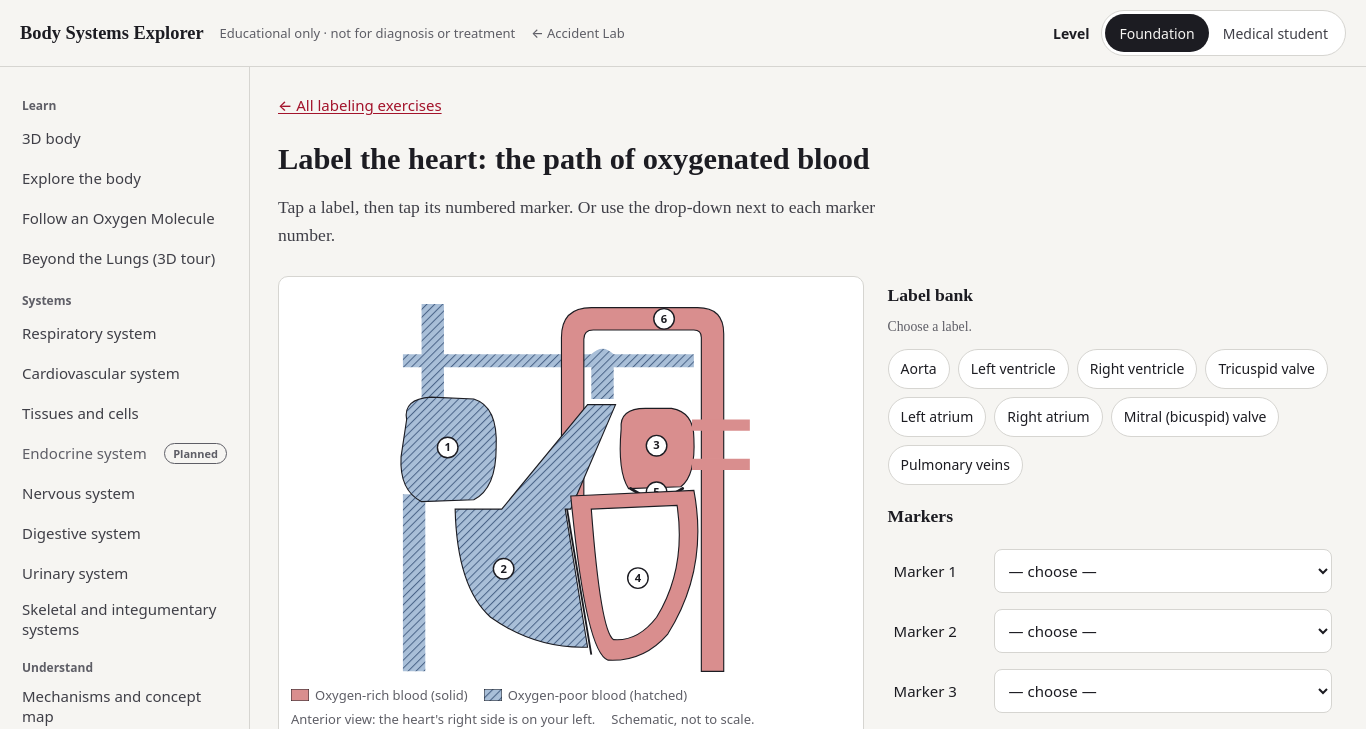
Scenario: labeling › can be completed entirely with the keyboard-accessible selects
Select "Right atrium" in the dropdown labelled "Marker 1" at (1163, 571), box [994, 549, 1332, 593]
Select "Right ventricle" in the dropdown labelled "Marker 2" at (1163, 631), box [994, 609, 1332, 653]
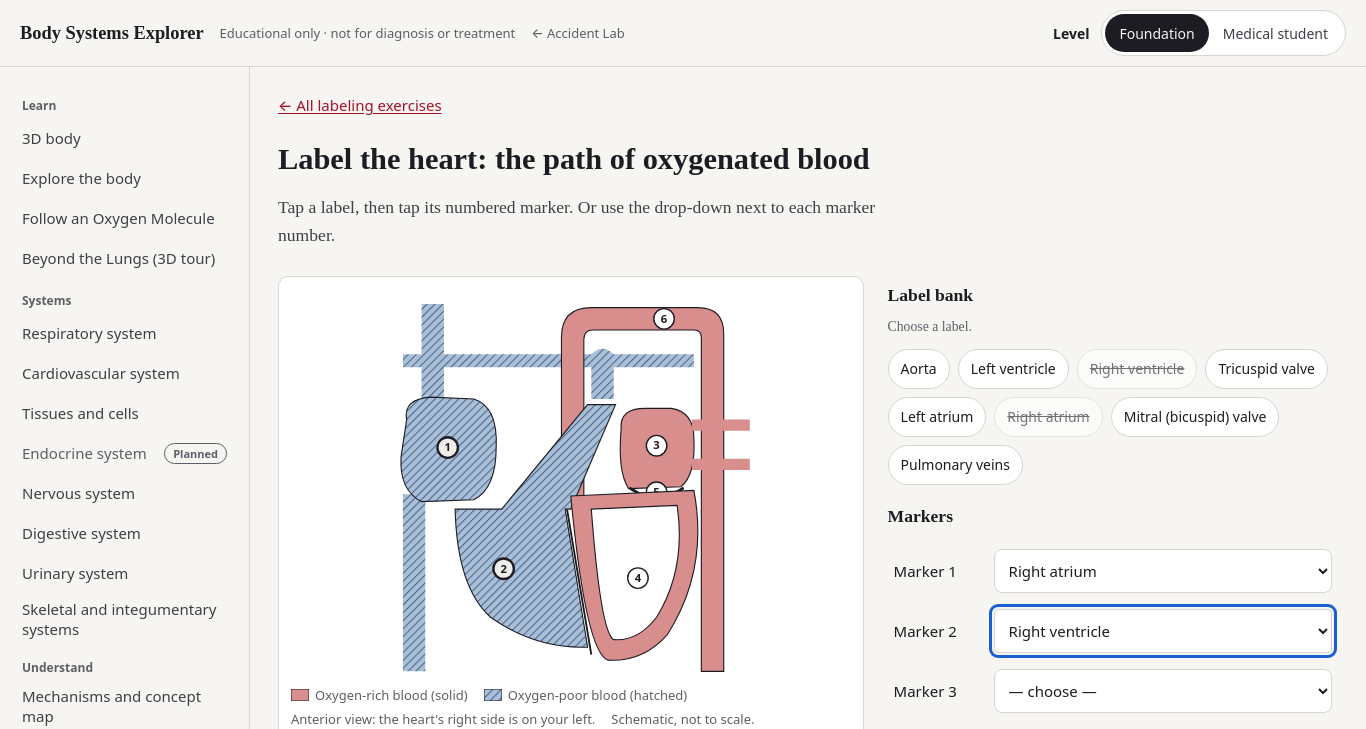
Select "Left atrium" in the dropdown labelled "Marker 3" at (1163, 691), box [994, 669, 1332, 713]
(page scrolled)
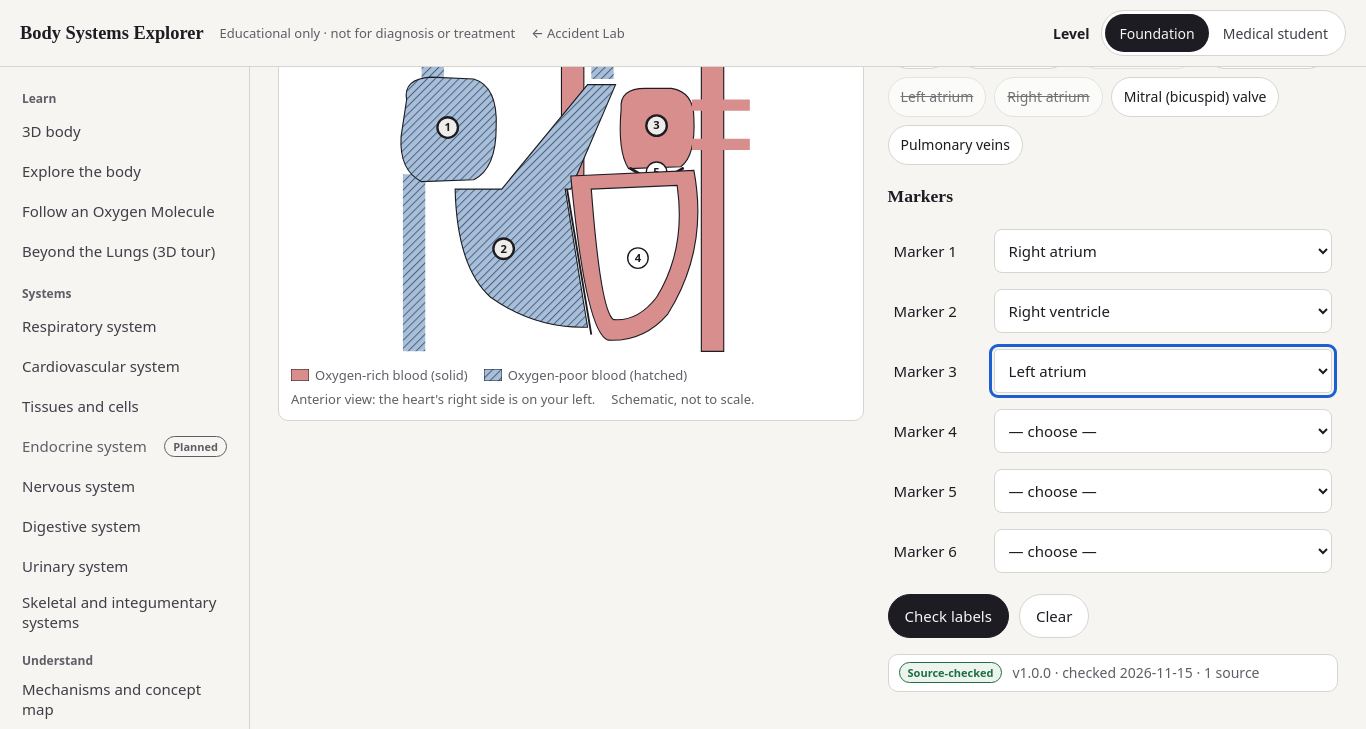
Select "Left ventricle" in the dropdown labelled "Marker 4" at (1163, 431), box [994, 409, 1332, 453]
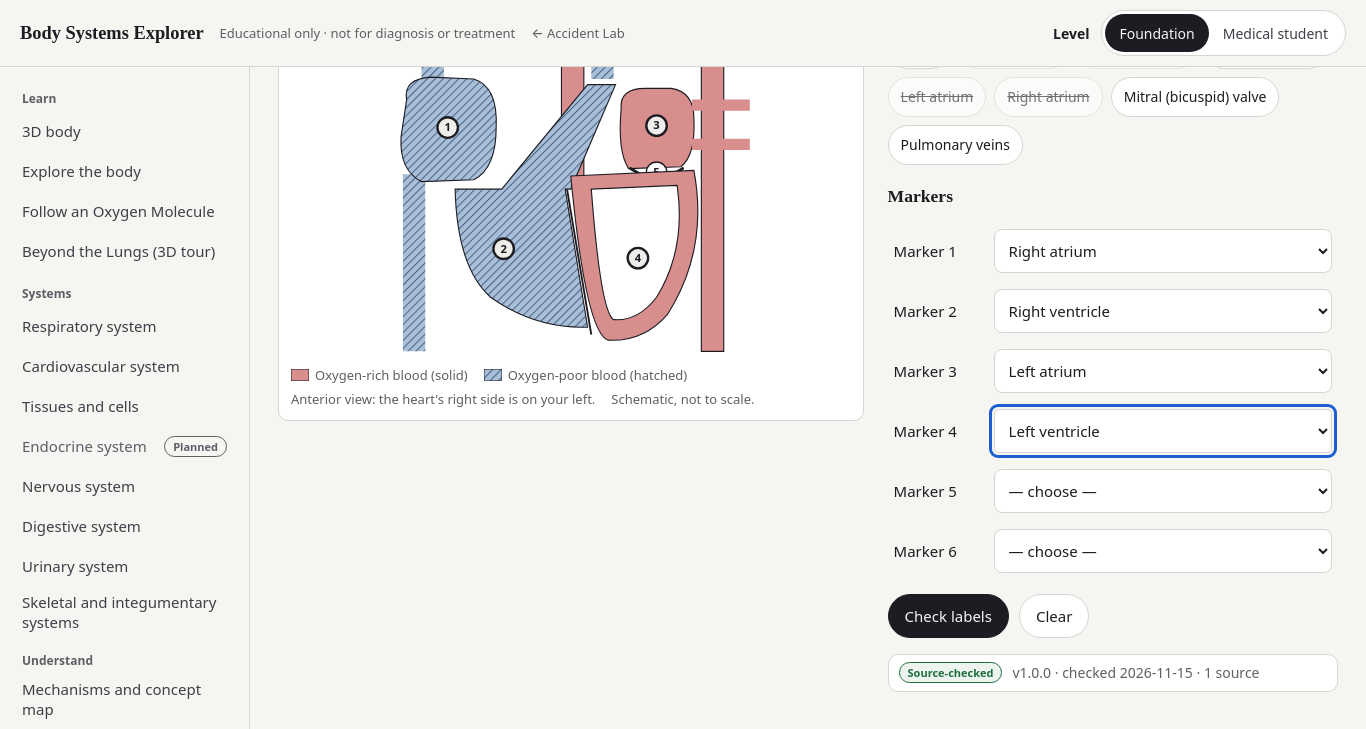
Select "Mitral (bicuspid) valve" in the dropdown labelled "Marker 5" at (1163, 491), box [994, 469, 1332, 513]
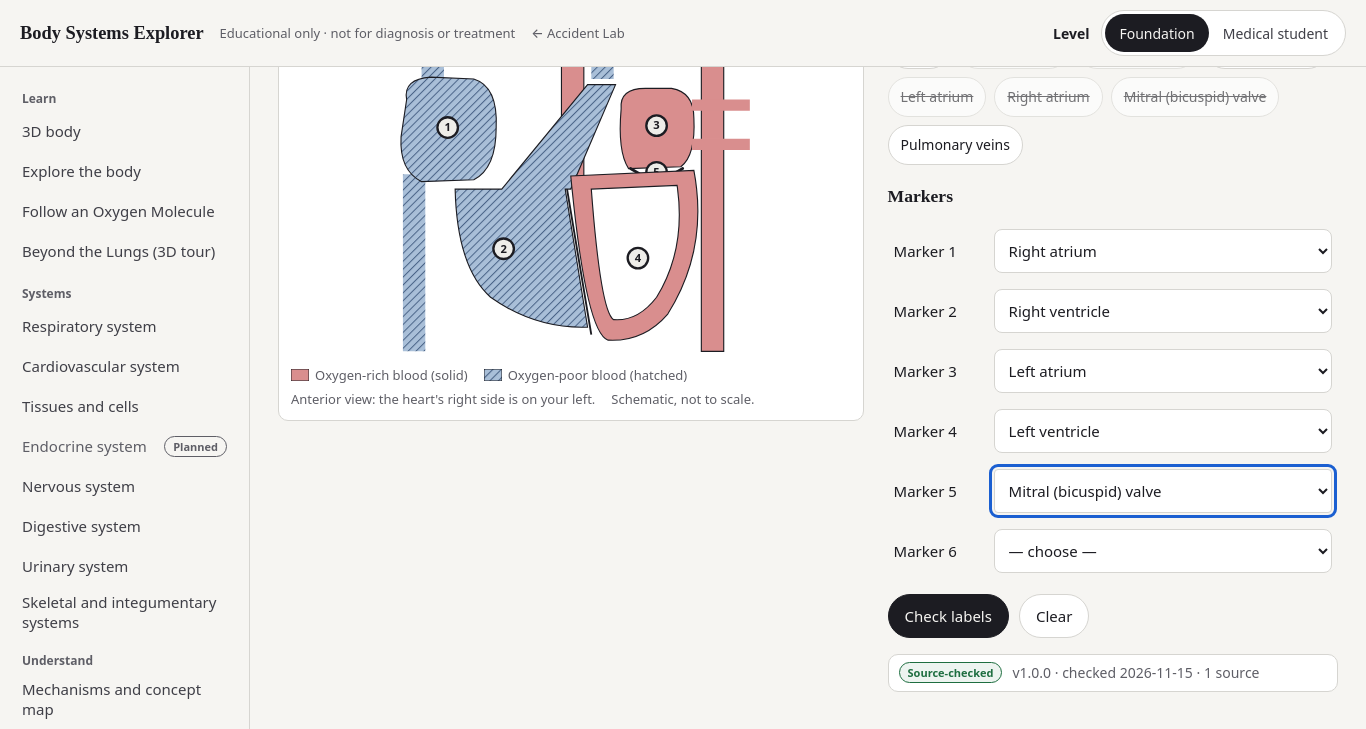
Select "Aorta" in the dropdown labelled "Marker 6" at (1163, 551), box [994, 529, 1332, 573]
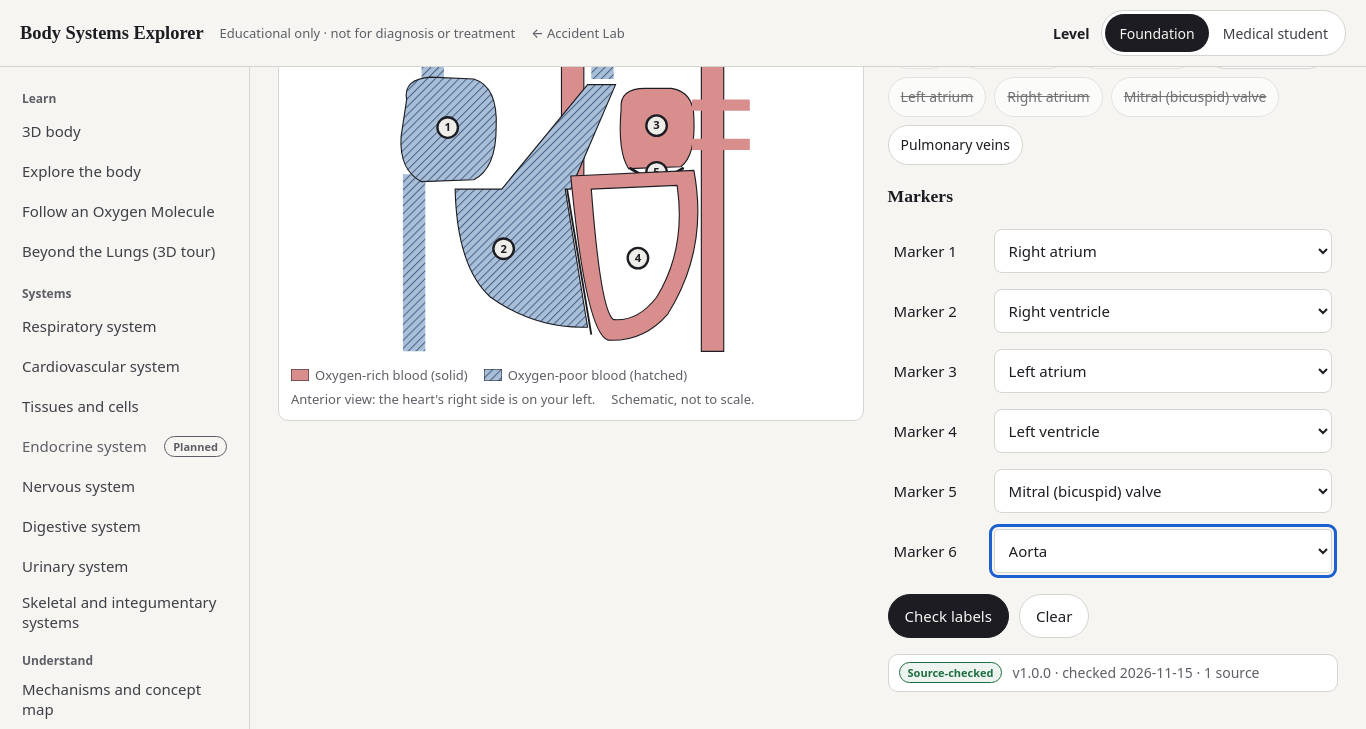
Click the button "Check labels" at (948, 616), box [888, 594, 1009, 638]
(page scrolled)
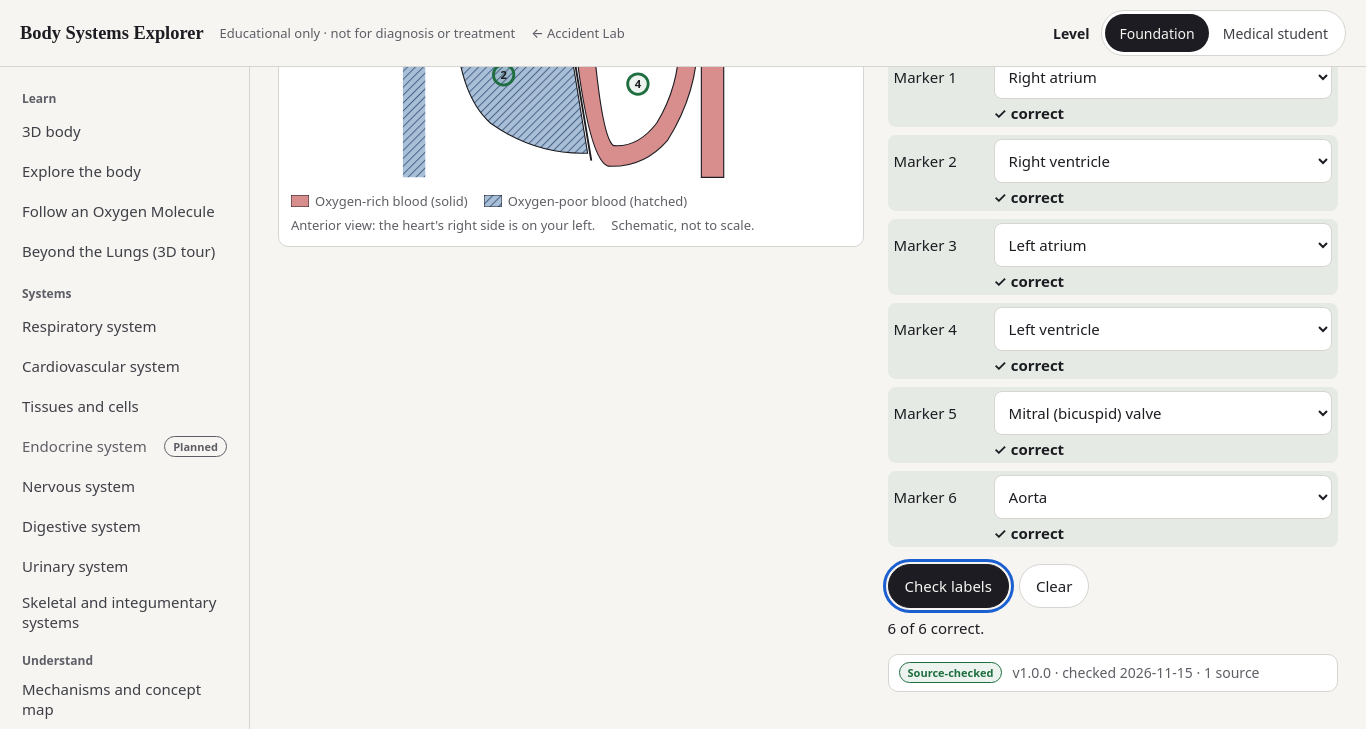
Expected: the text "6 of 6 correct." is shown, [888, 618, 984, 638]
